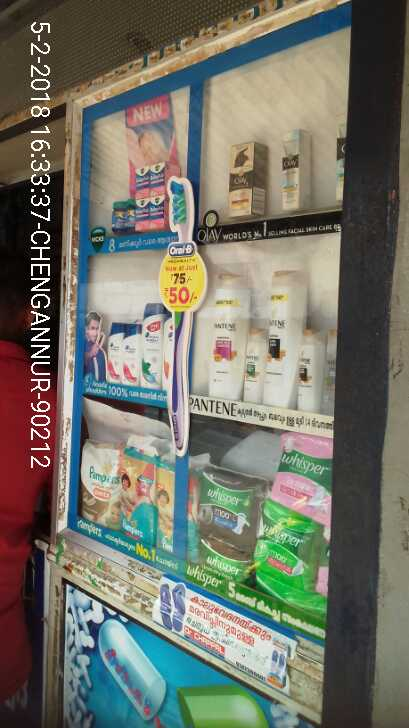vicks: (109, 164, 170, 235)
